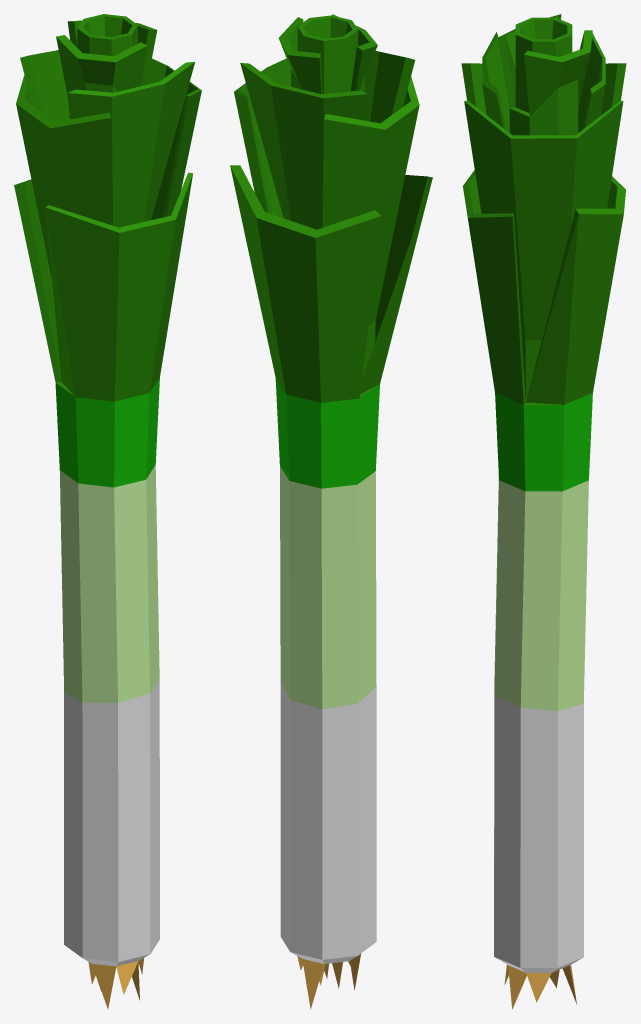
The model's file is leek01.obj.
3 views of the same model, side by side, from view 1: azimuth 30°, elevation 25°; view 2: azimuth 150°, elevation 25°; view 3: azimuth 270°, elevation 25° (orthographic).
Parts seen in each view (by area): view 1: Cylinder.001_Cylinder; view 2: Cylinder.001_Cylinder; view 3: Cylinder.001_Cylinder.
Part boxes in pixels (x1,y1,x2,y2): Cylinder.001_Cylinder: (14, 14, 201, 1009); Cylinder.001_Cylinder: (230, 14, 432, 1009); Cylinder.001_Cylinder: (461, 14, 626, 1008).
Size of the model in its own units: 0.0711 by 0.4011 by 0.0615.
Materials: 1 (1 with a texture image).
